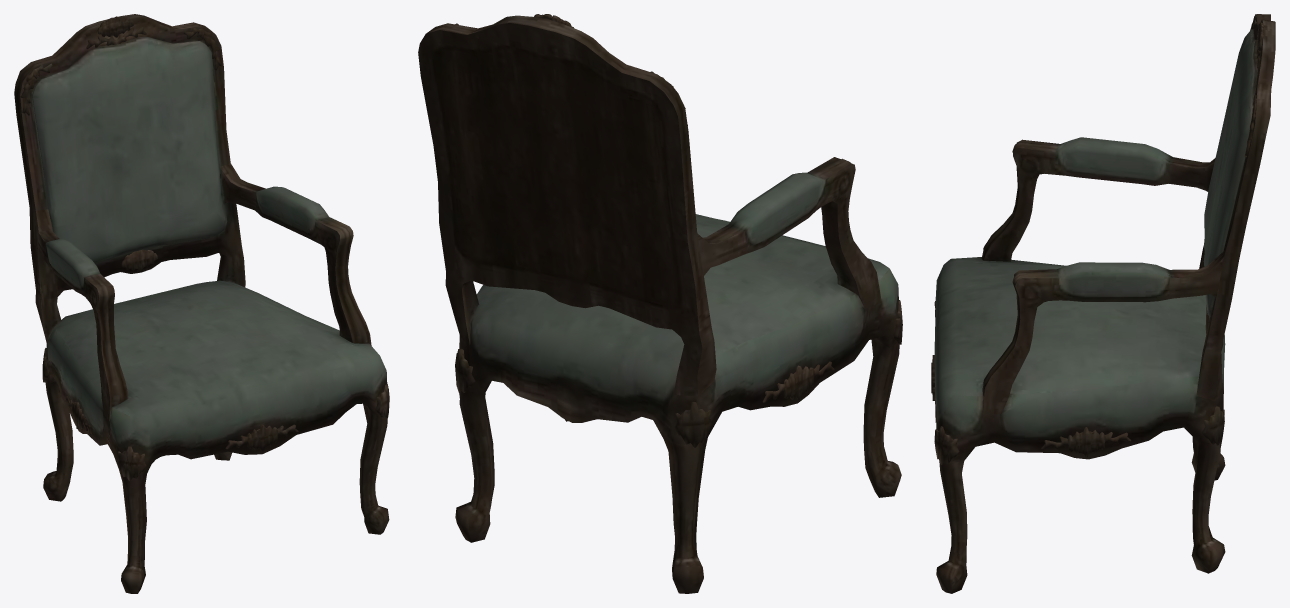
File: greenchair_01.glb
The picture shows the model from 3 angles, left to right: view 1: azimuth 30°, elevation 25°; view 2: azimuth 150°, elevation 25°; view 3: azimuth 270°, elevation 25°; orthographic projection. The views are drawn at different scales.
Parts seen in each view (by area): view 1: GreenChair_01; view 2: GreenChair_01; view 3: GreenChair_01.
Boxes of the visible parts, left/top/right/bottom form: GreenChair_01: left=14, top=14, right=389, bottom=593; GreenChair_01: left=418, top=14, right=902, bottom=593; GreenChair_01: left=931, top=14, right=1275, bottom=593.
Bounding box in the file's own units: 0.6732 × 1.06 × 0.6644.
Materials: 1 (1 with a texture image).
